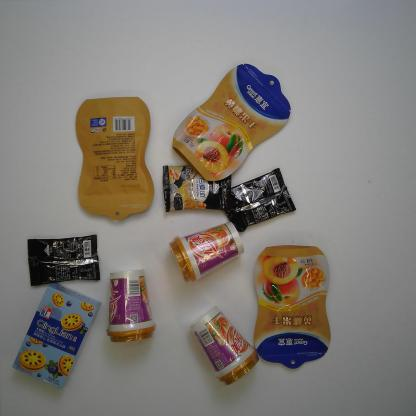Dessert: (10, 278, 103, 394)
Dried Fruit: (171, 61, 294, 182), (249, 243, 335, 372), (74, 94, 153, 223)
Instant Drink: (188, 305, 260, 389), (220, 167, 300, 239), (168, 218, 244, 287), (23, 229, 101, 290), (104, 266, 158, 348), (159, 161, 233, 212)
